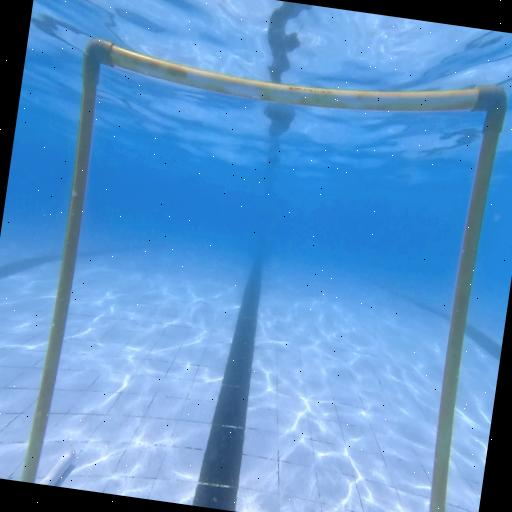gate: (23, 27, 508, 512)
